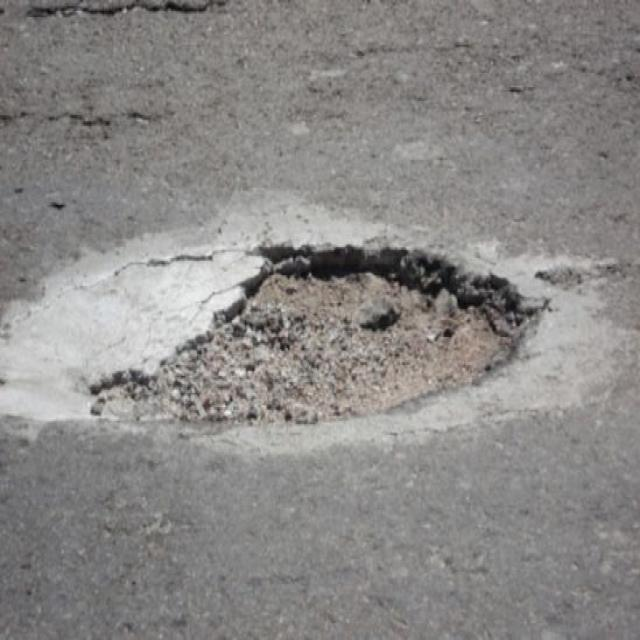pothole: (83, 222, 544, 448)
